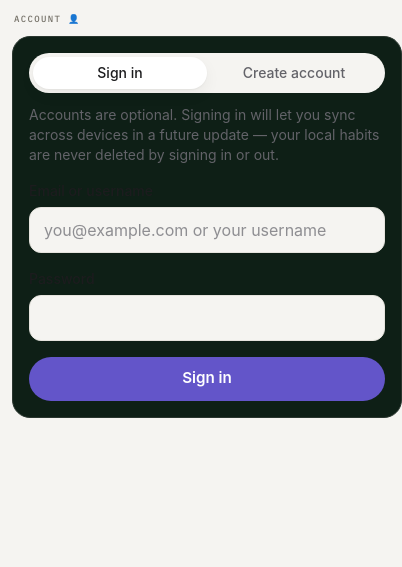
Test: AccountSettings › shows the sign-in form by default and can switch to sign-up
expect the button "Sign in" is shown: met, box [29,356,385,400]
Click the radio button labelled "Create account".
click(294, 72)  # box [207,56,381,88]
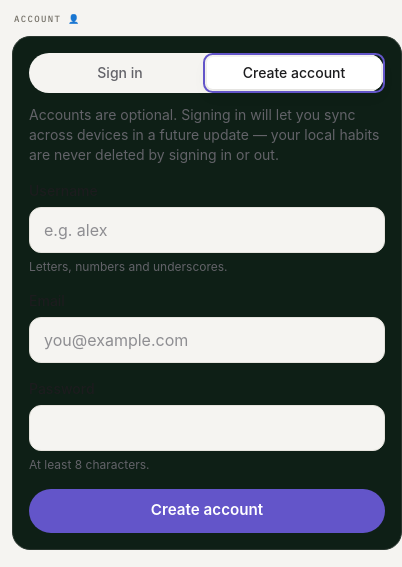
expect the field labelled "Username" is shown: met, box [29,206,385,252]
